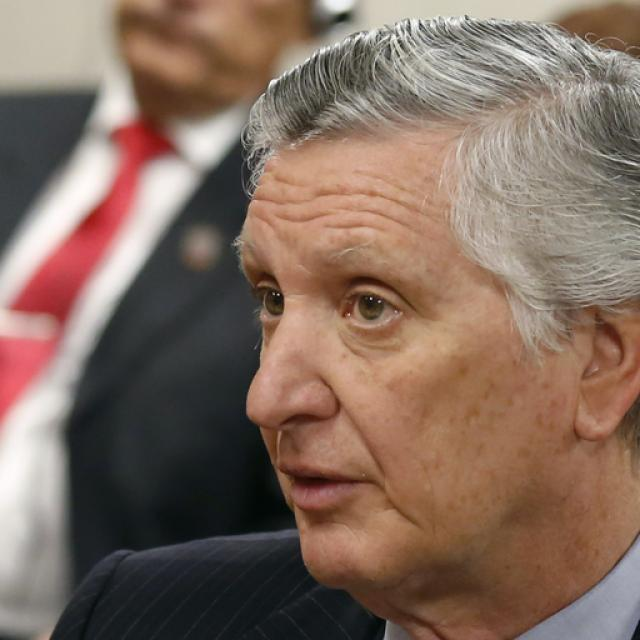surprise: (232, 115, 572, 588)
